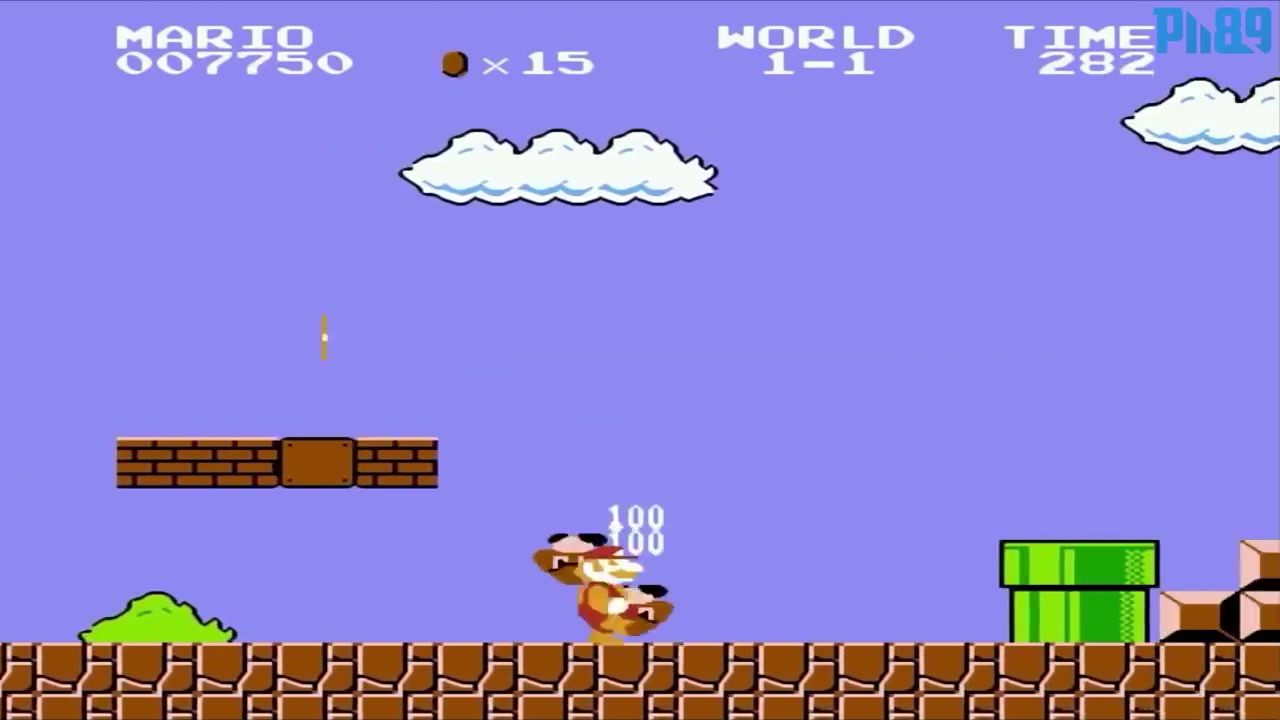mario: (569, 523, 655, 645)
